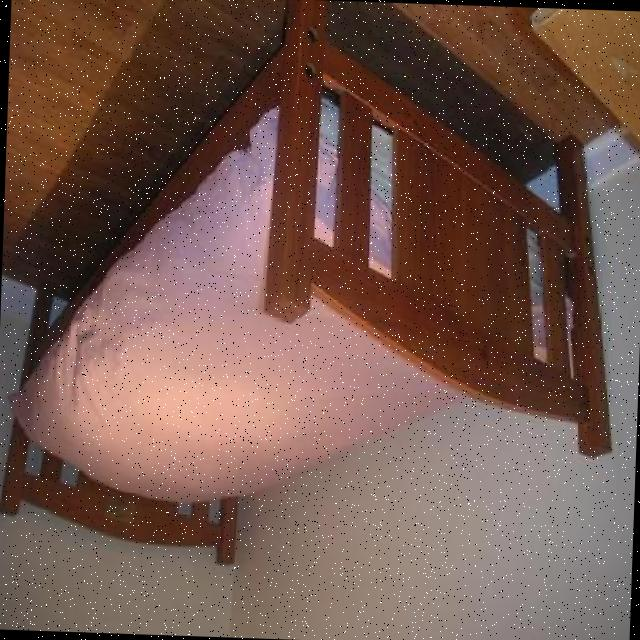Bed: (0, 0, 635, 583)
